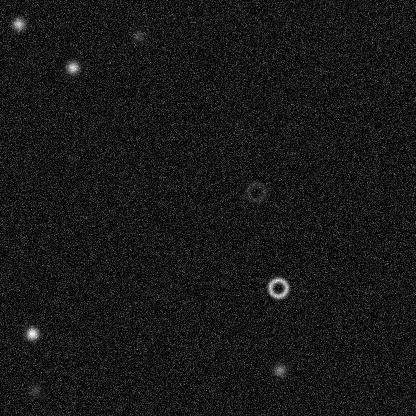Ring: (243, 179, 267, 203), (266, 275, 290, 299)
Spot: (24, 325, 40, 341), (129, 27, 145, 43), (64, 59, 80, 75), (26, 382, 42, 398), (271, 362, 287, 378), (10, 16, 26, 32)
